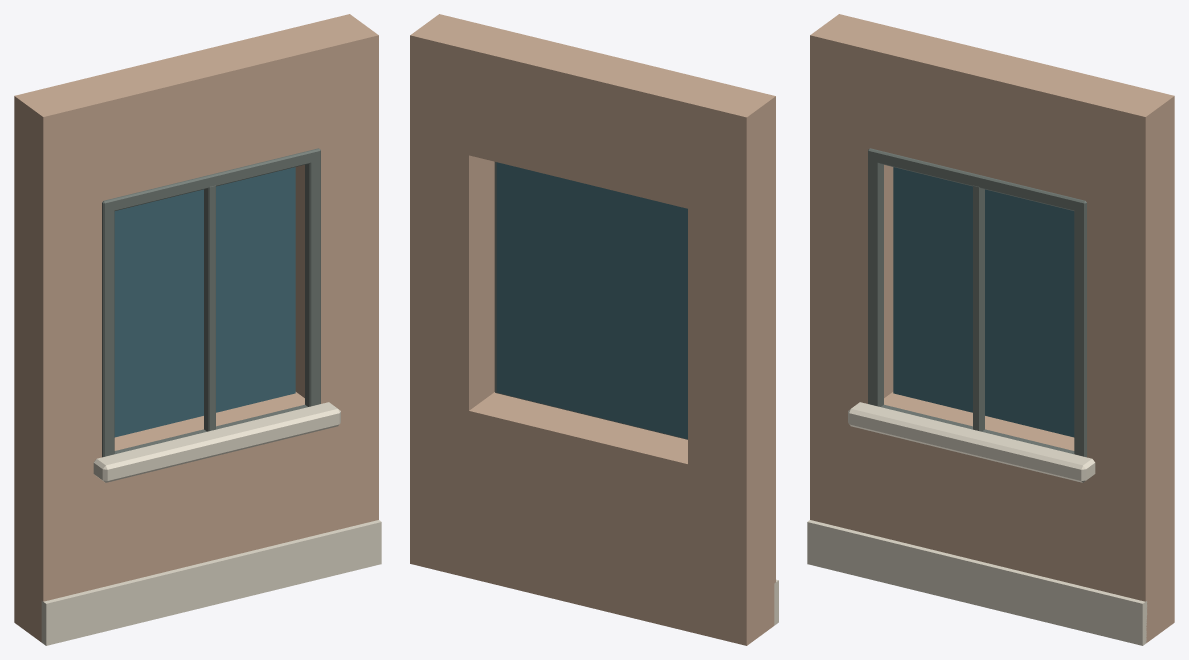
Rendered from window-bay-a.glb.
3 renders of one model, left to right at view 1: azimuth 30°, elevation 25°; view 2: azimuth 150°, elevation 25°; view 3: azimuth 330°, elevation 25°, orthographic.
Parts seen in each view (by area): view 1: Wall left, Inset pane, Wall right, Wall above opening, Wall under opening, Limestone base, Limestone sill, Bronze jamb +1, Bronze jamb -1, Bronze lintel, Window mullion, Bronze sill frame; view 2: Wall left, Inset pane, Wall under opening, Wall right, Wall above opening, Bronze jamb +1; view 3: Wall right, Inset pane, Wall left, Wall above opening, Wall under opening, Limestone base, Limestone sill, Bronze jamb -1, Bronze jamb +1, Bronze lintel, Window mullion, Bronze sill frame.
Part boxes in pixels (left/top/right/bottom): Wall left: left=14, top=81, right=101, bottom=642; Inset pane: left=114, top=167, right=295, bottom=437; Wall right: left=291, top=14, right=378, bottom=533; Wall above opening: left=73, top=28, right=319, bottom=201; Wall under opening: left=102, top=392, right=319, bottom=587; Limestone base: left=41, top=520, right=381, bottom=645; Limestone sill: left=93, top=402, right=340, bottom=482; Bronze jamb +1: left=305, top=157, right=320, bottom=406; Bronze jamb -1: left=102, top=207, right=114, bottom=457; Bronze lintel: left=102, top=148, right=320, bottom=212; Window mullion: left=204, top=185, right=215, bottom=431; Bronze sill frame: left=114, top=404, right=307, bottom=454; Wall left: left=688, top=82, right=775, bottom=645; Inset pane: left=496, top=162, right=687, bottom=438; Wall under opening: left=469, top=392, right=687, bottom=631; Wall right: left=410, top=14, right=497, bottom=577; Wall above opening: left=469, top=28, right=716, bottom=208; Bronze jamb +1: left=494, top=162, right=501, bottom=393; Wall right: left=1087, top=81, right=1174, bottom=642; Inset pane: left=893, top=167, right=1074, bottom=437; Wall left: left=810, top=14, right=897, bottom=533; Wall above opening: left=869, top=28, right=1115, bottom=201; Wall under opening: left=869, top=392, right=1086, bottom=587; Limestone base: left=807, top=520, right=1147, bottom=645; Limestone sill: left=848, top=402, right=1095, bottom=482; Bronze jamb -1: left=868, top=156, right=883, bottom=406; Bronze jamb +1: left=1074, top=207, right=1086, bottom=457; Bronze lintel: left=868, top=148, right=1086, bottom=211; Window mullion: left=973, top=185, right=984, bottom=431; Bronze sill frame: left=881, top=404, right=1074, bottom=454.
Size of the model in its own units: 2 by 3 by 0.43.
